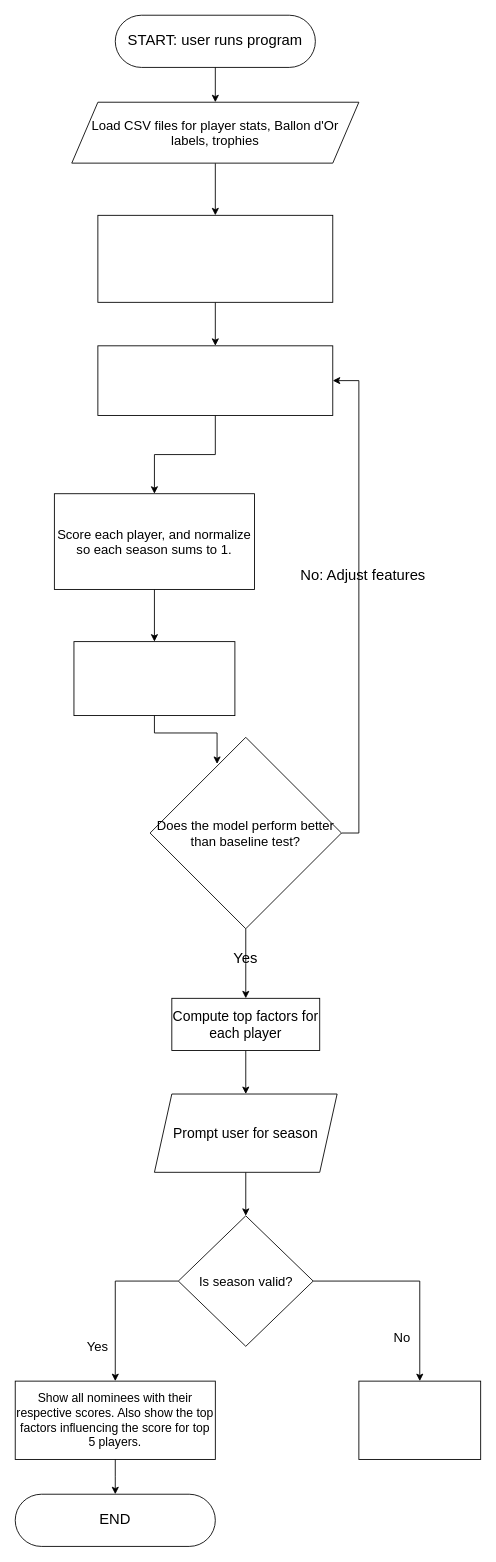
The diagram is 496 pixels wide and 1562 high, and some of its shapes have lost their labels. The shapes that lost their labels are listed below. From the top down, each one's centre as x and y in pixels, then its label:
At [215,258]: "Combine stats, trophies, and labels into one table".
At [215,380]: "Train SMILE model.".
At [154,678]: "Rank players: top 30 nominees, and top 1 (winner).".
At [419,1419]: "Show Error".
